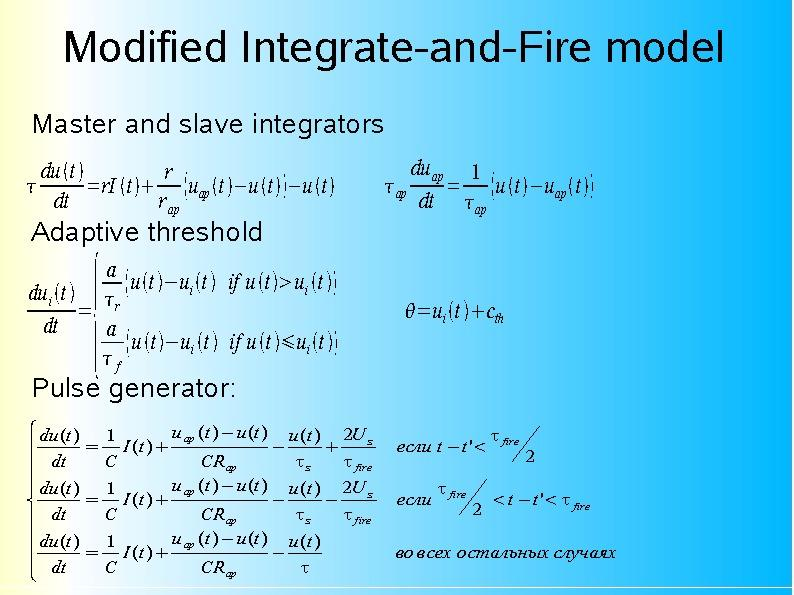paragraph: (16, 105, 714, 587)
title: (55, 24, 733, 75)
